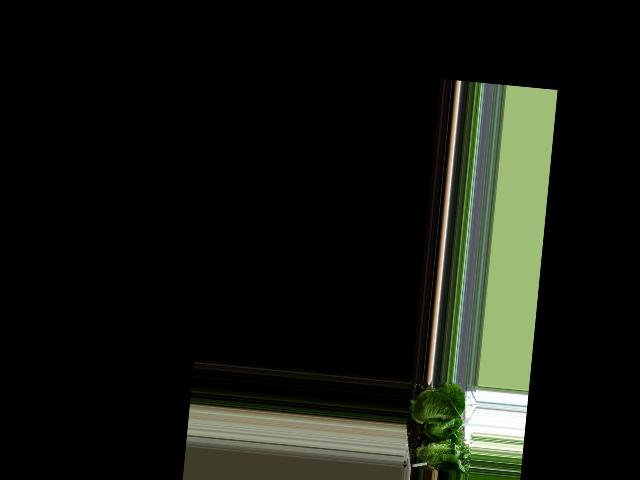lettuce: (407, 435, 466, 470)
